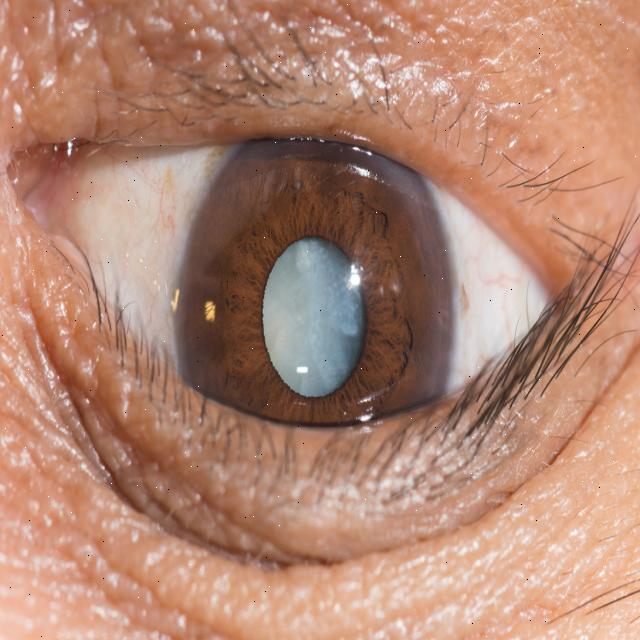Cataract: (178, 116, 452, 516)
